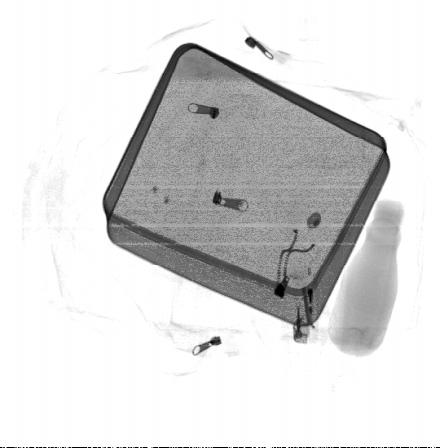Lighter: (292, 264, 319, 344)
